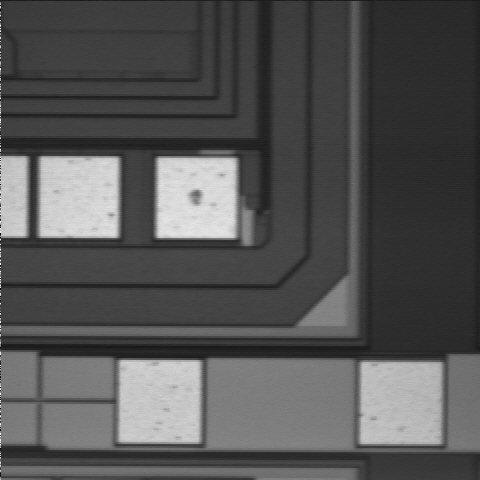pad: (119, 360, 200, 442), (361, 362, 441, 444), (40, 157, 119, 238), (157, 158, 236, 238)
